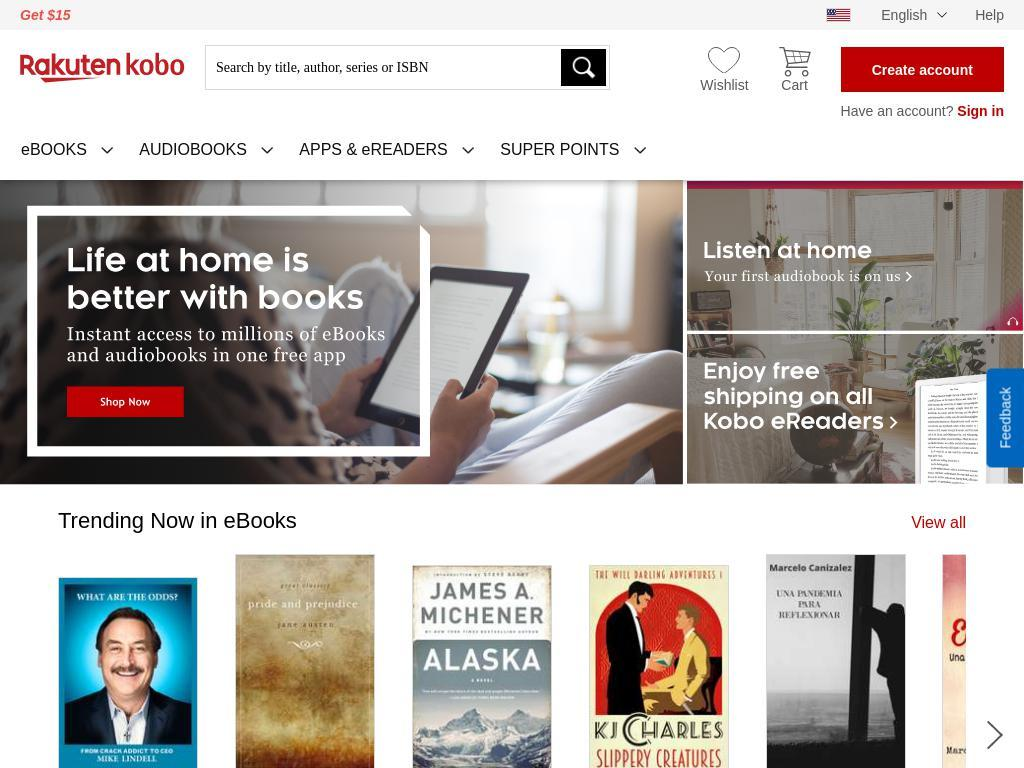button: (234, 554, 375, 768), (765, 554, 906, 768), (411, 565, 552, 768), (588, 565, 729, 768), (58, 577, 198, 768), (942, 554, 1024, 768), (291, 127, 488, 180), (492, 127, 659, 180), (131, 127, 287, 180), (840, 47, 1005, 92), (13, 127, 127, 180), (840, 92, 1005, 120), (861, 0, 948, 30), (700, 47, 749, 93), (20, 0, 86, 30), (778, 47, 811, 93), (986, 368, 1024, 406), (962, 0, 1005, 30), (687, 334, 688, 335)
field: (205, 45, 610, 90), (560, 49, 606, 86)
heading: (20, 39, 185, 97), (58, 508, 297, 534)
image: (708, 47, 741, 73), (986, 720, 1004, 751), (826, 8, 850, 20)
link: (0, 180, 1024, 198), (687, 334, 1023, 353), (687, 181, 1023, 199), (911, 514, 967, 532)
text: (861, 0, 948, 30), (840, 103, 953, 119), (871, 62, 973, 78), (778, 47, 811, 77), (700, 73, 749, 93), (957, 103, 1005, 119), (778, 77, 811, 93)
